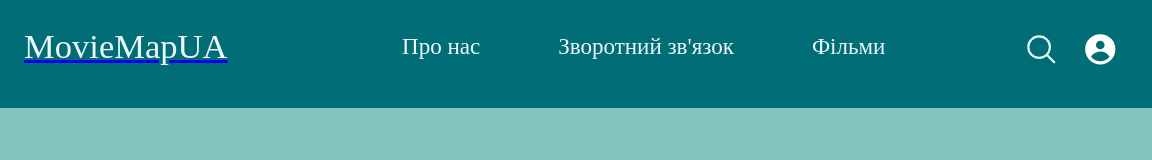
Test: clicking the search icon reveals the search input
This screenshot has width=1152, height=160.
Click the icon with class "icon-search". click: (1041, 50)
box: [1024,32,1058,67]
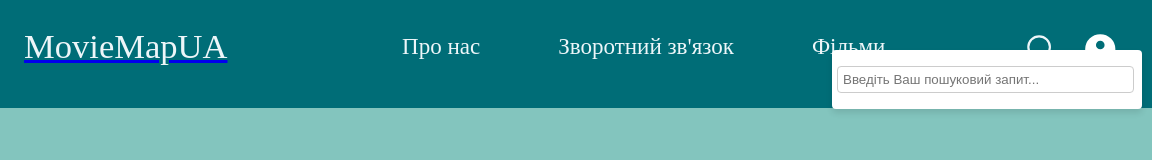
Now the field with placeholder "Введіть Ваш пошуковий запит..." is shown, box [837,66,1134,93]
